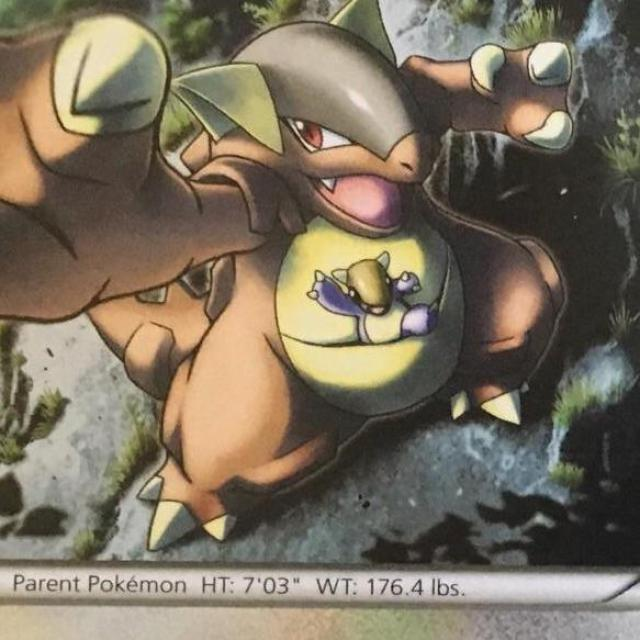Kangaskhan: (0, 0, 570, 439)
